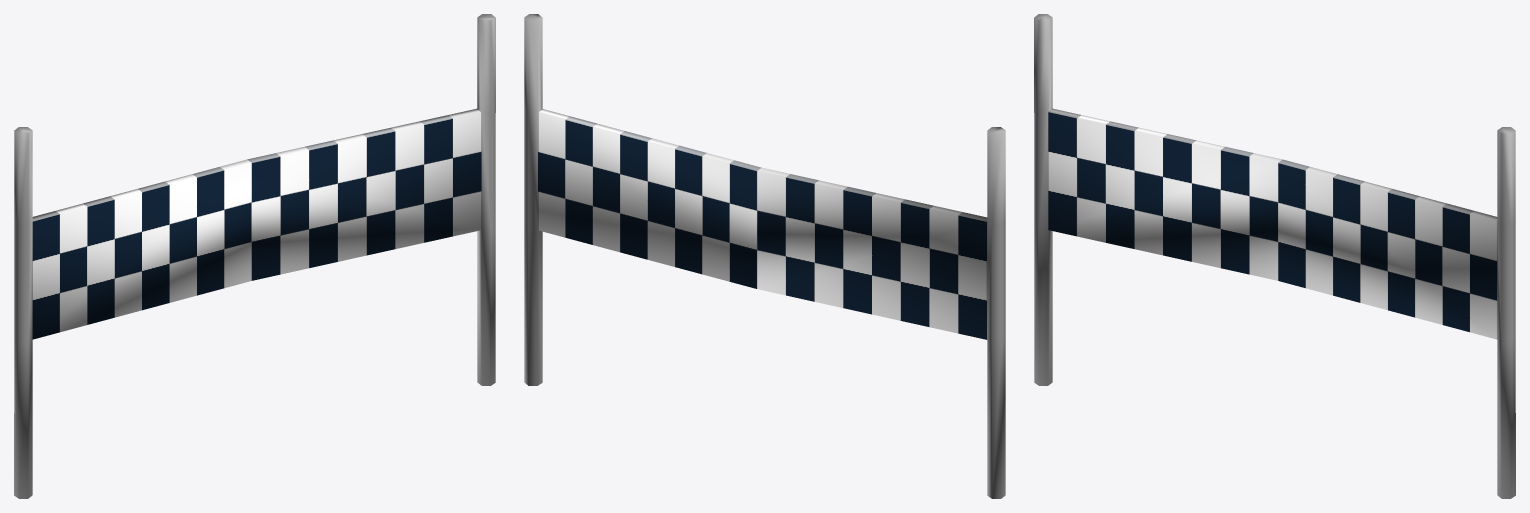
File: Goal.fbx
The picture shows the model from 3 angles, left to right: view 1: azimuth 30°, elevation 25°; view 2: azimuth 150°, elevation 25°; view 3: azimuth 330°, elevation 25°; orthographic projection.
Parts seen in each view (by area): view 1: Cube.001; view 2: Cube.001; view 3: Cube.001.
Part boxes in pixels (left/top/right/bottom): Cube.001: left=14, top=14, right=495, bottom=498; Cube.001: left=524, top=14, right=1005, bottom=498; Cube.001: left=1034, top=14, right=1515, bottom=498.
Size of the model in its own units: 983 by 718 by 44.78.
1 material, 1 textured.
